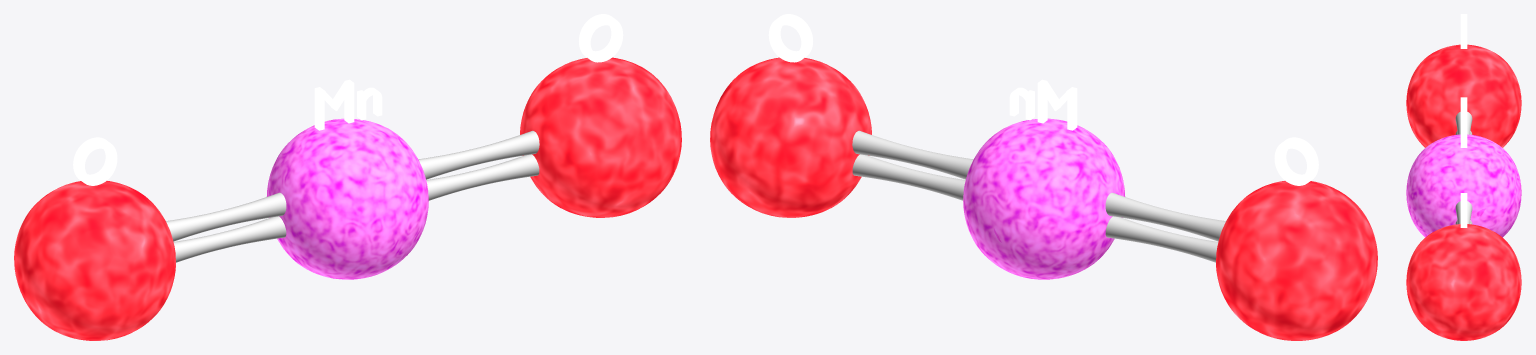
Rendered from MnO2.glb.
3 views of the same model, side by side, from view 1: azimuth 30°, elevation 25°; view 2: azimuth 150°, elevation 25°; view 3: azimuth 270°, elevation 25° (orthographic). The views are drawn at different scales.
Parts seen in each view (by area): view 1: Text; view 2: Text; view 3: Text.
Boxes of the visible parts, box(x1,y1,x2,y2) form: Text: box(14, 14, 681, 340); Text: box(710, 14, 1377, 340); Text: box(1406, 14, 1521, 340).
Size of the model in its own units: 7.85 by 2.25 by 1.68.
4 materials, 2 textured.
